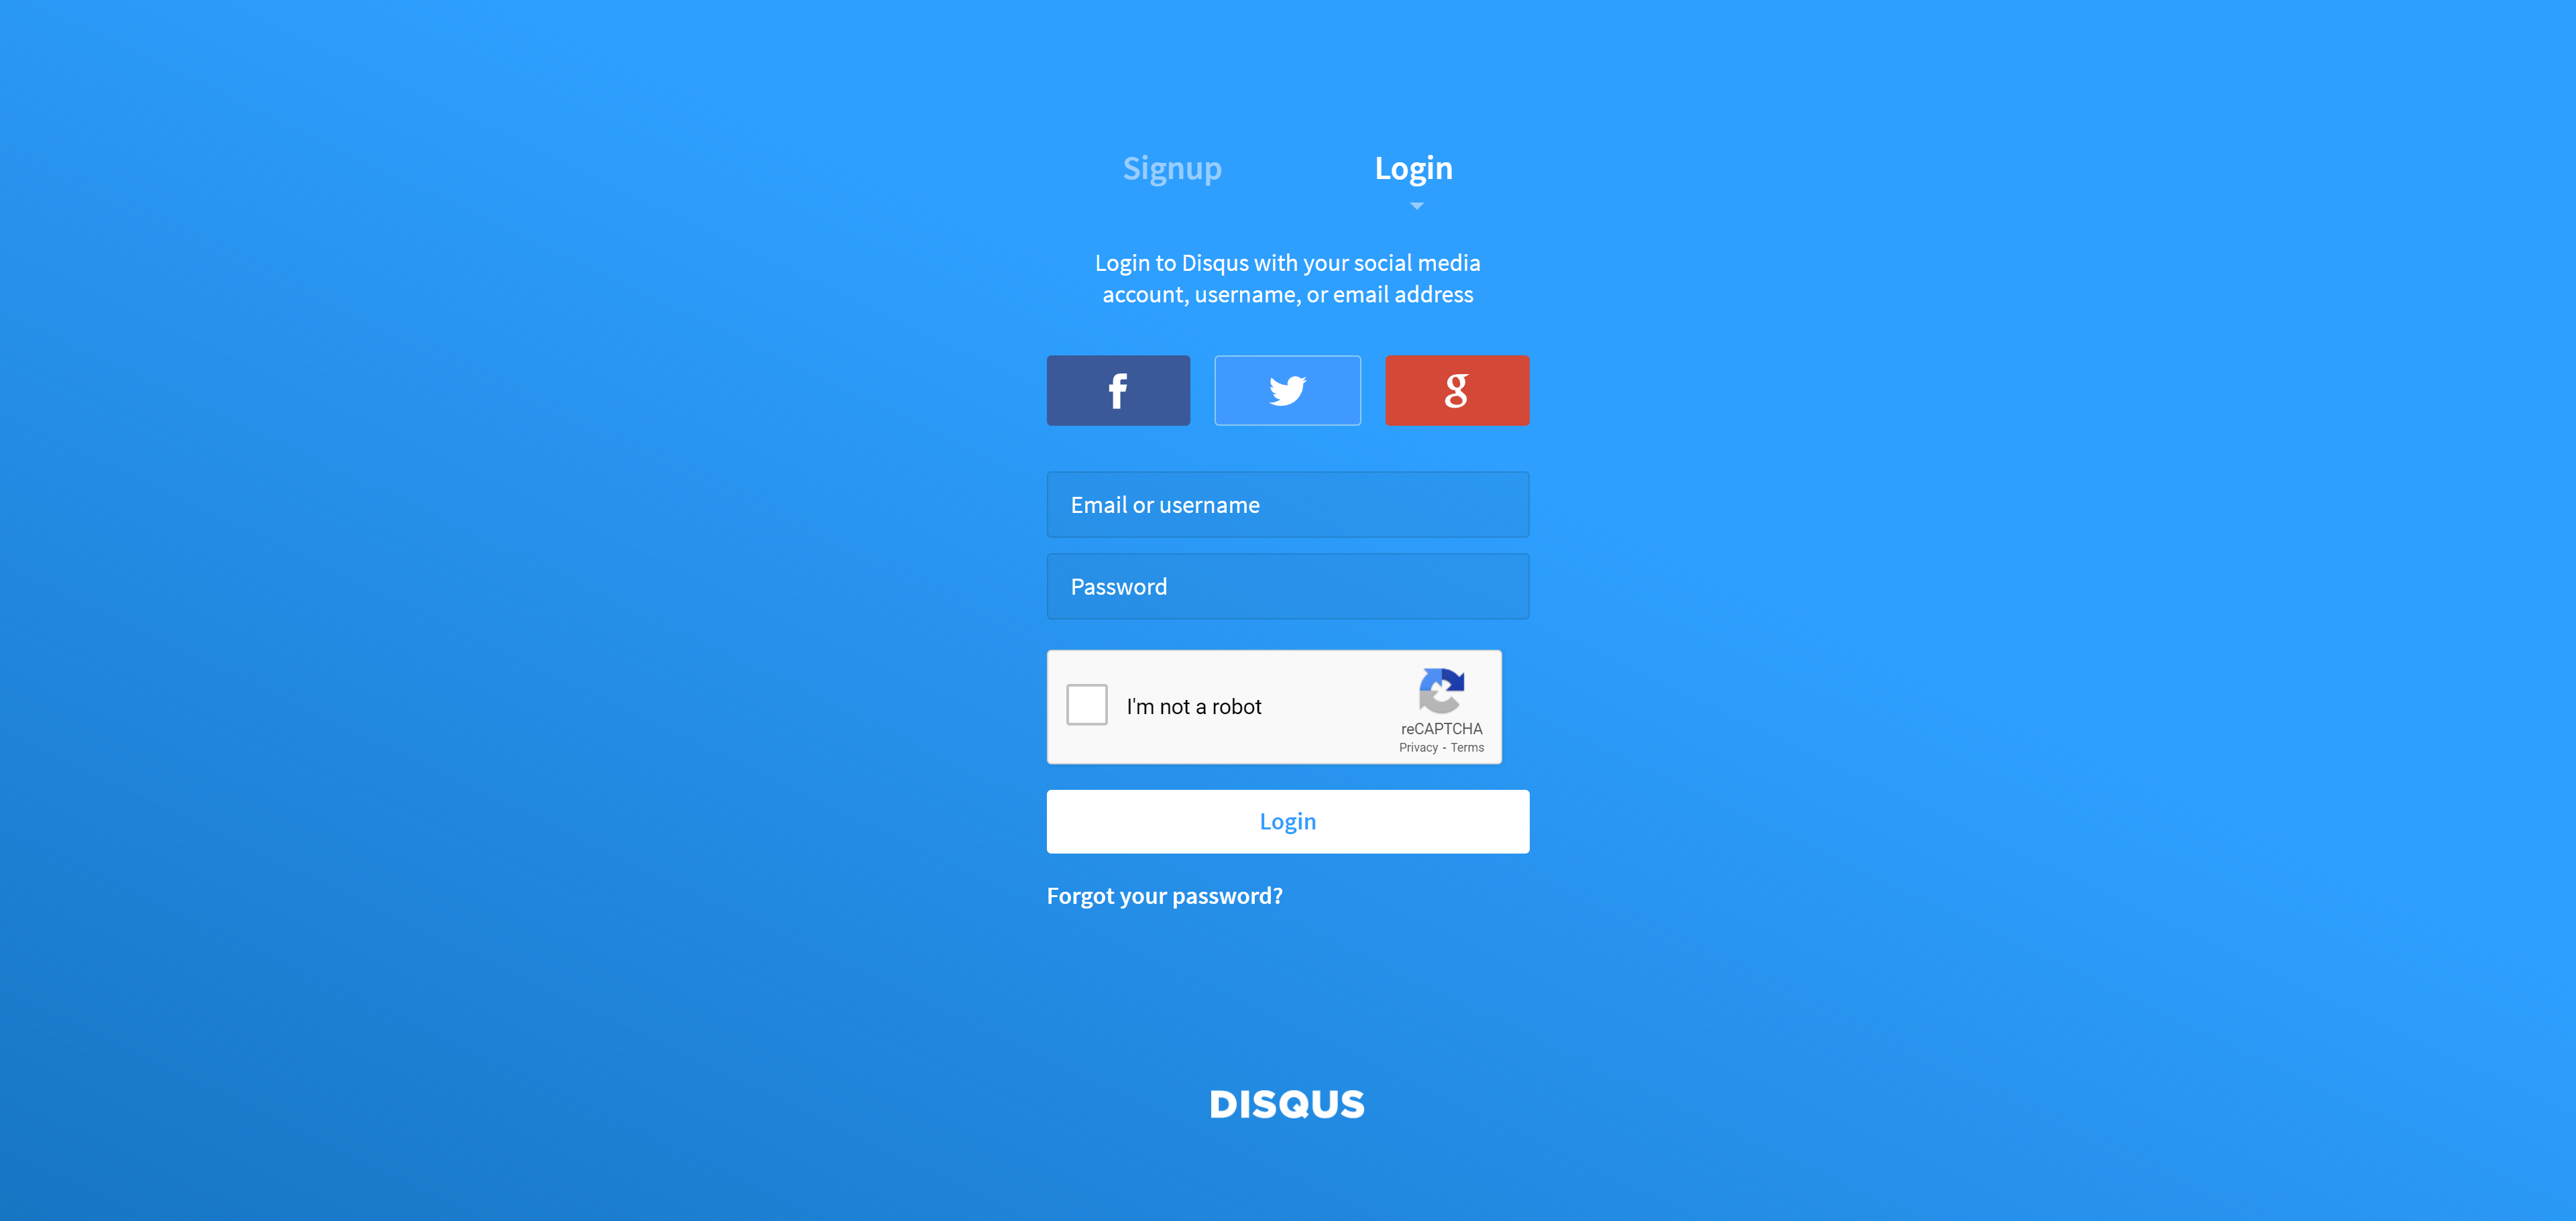login_button: (1046, 789, 1531, 853)
login_form: (1035, 463, 1543, 864)
